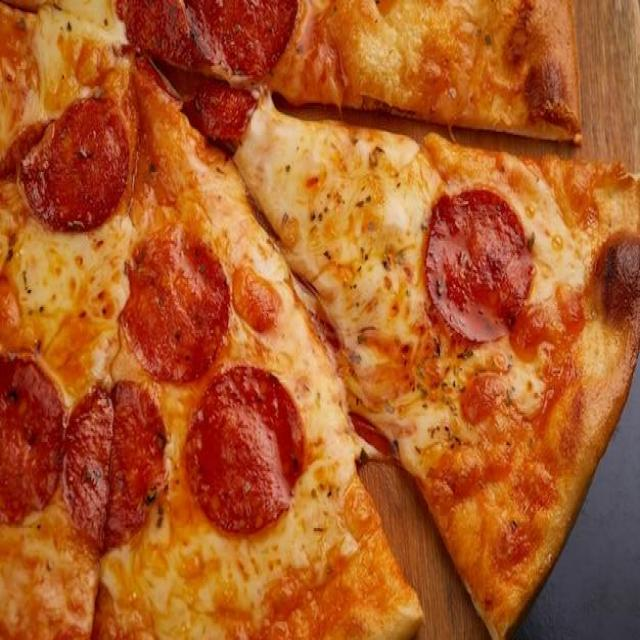pepperoni: (116, 0, 298, 149), (186, 368, 305, 536), (65, 381, 166, 552), (424, 187, 530, 344), (124, 230, 229, 384), (21, 90, 131, 235), (0, 354, 62, 525)
pizza: (0, 2, 640, 640)
